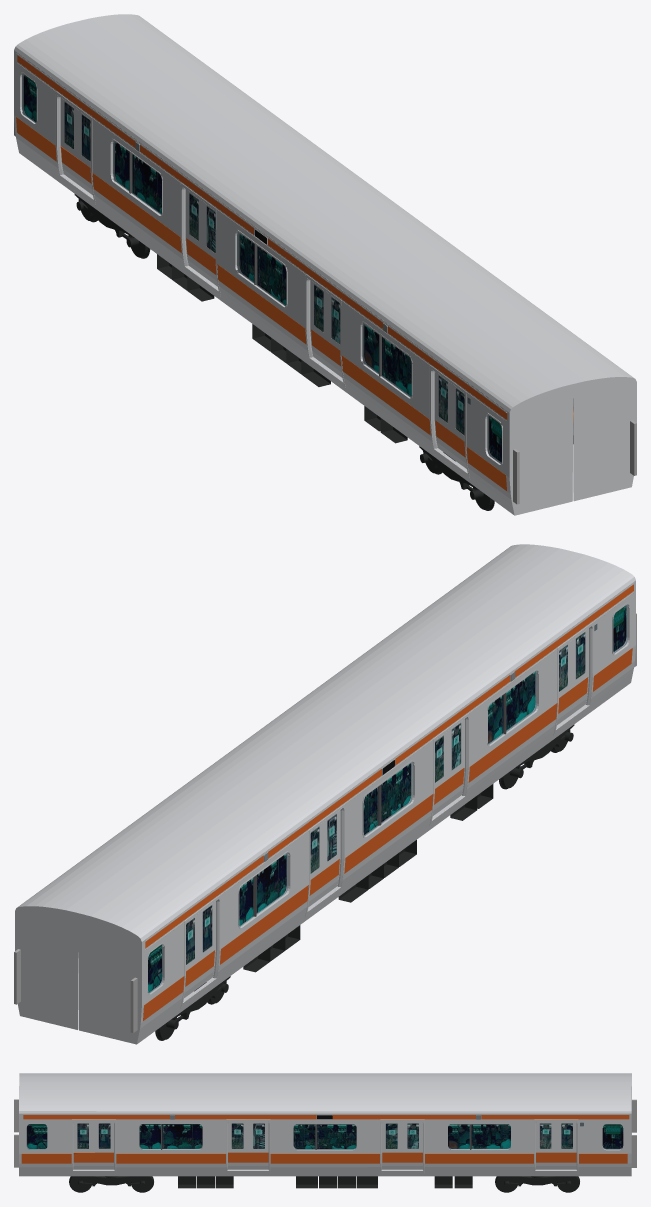
The model's file is ReMake_train_B.glb.
The picture shows the model from 3 angles, top to bottom: view 1: azimuth 30°, elevation 25°; view 2: azimuth 150°, elevation 25°; view 3: azimuth 270°, elevation 25°; orthographic projection. The views are drawn at different scales.
Visible parts, largest first — view 1: 小窓くり抜き.001, 小窓くり抜き.010, 平面.001; view 2: 小窓くり抜き.001, 小窓くり抜き.010, 平面.001; view 3: 小窓くり抜き.010, 平面, 小窓くり抜き.001.
Boxes of the visible parts, bbox=[...] form: 小窓くり抜き.001: bbox=[14, 21, 573, 515]; 小窓くり抜き.010: bbox=[78, 14, 636, 501]; 平面.001: bbox=[22, 73, 501, 463]; 小窓くり抜き.001: bbox=[78, 551, 636, 1044]; 小窓くり抜き.010: bbox=[14, 544, 572, 1029]; 平面.001: bbox=[148, 604, 627, 993]; 小窓くり抜き.010: bbox=[14, 1086, 636, 1192]; 平面: bbox=[26, 1123, 623, 1149]; 小窓くり抜き.001: bbox=[14, 1073, 636, 1134].
Bounding box in the file's own units: 2.06 × 2.33 × 13.83.
58 materials, 2 textured.
